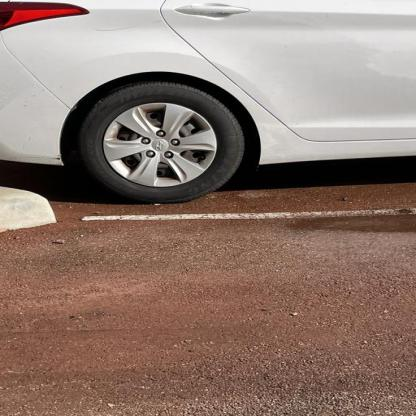Tire: (75, 81, 244, 204)
